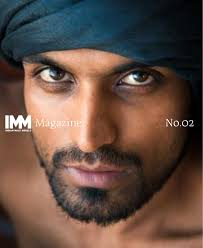Indian_Male: (25, 47, 166, 209)
